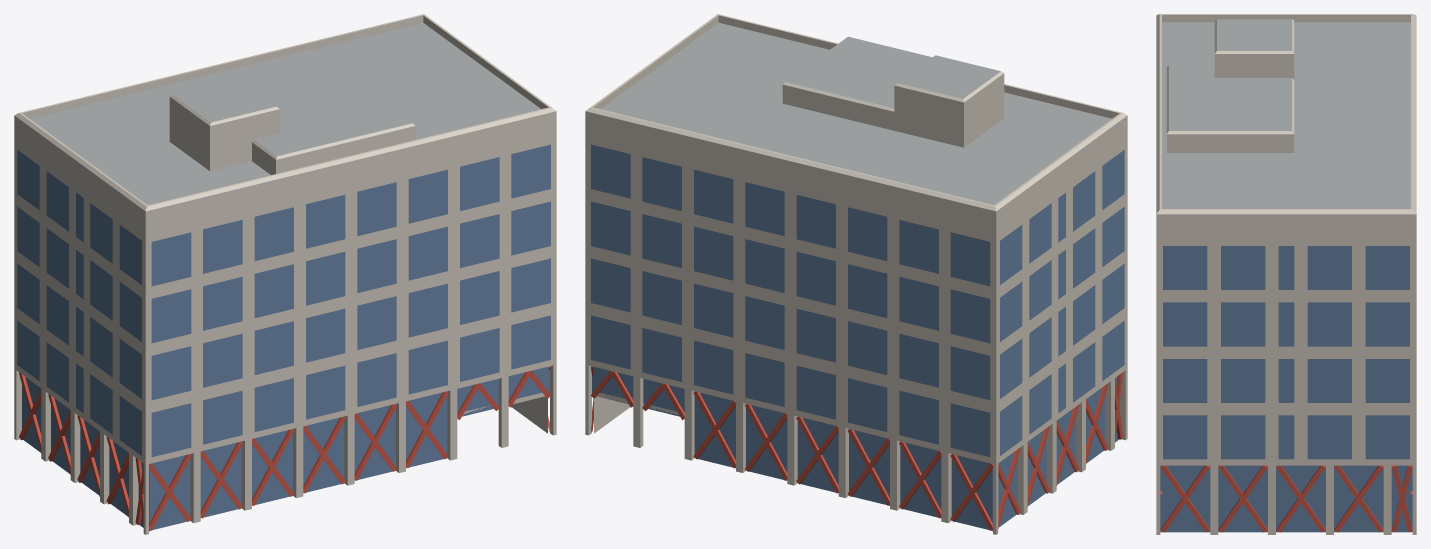
File: sd-james-r-mills-building.glb
The picture shows the model from 3 angles, left to right: view 1: azimuth 30°, elevation 25°; view 2: azimuth 150°, elevation 25°; view 3: azimuth 270°, elevation 25°; orthographic projection.
Parts seen in each view (by area): view 1: James R. Mills Building; view 2: James R. Mills Building; view 3: James R. Mills Building.
Boxes of the visible parts, left/top/right/bottom form: James R. Mills Building: left=14, top=14, right=556, bottom=534; James R. Mills Building: left=585, top=14, right=1127, bottom=534; James R. Mills Building: left=1156, top=14, right=1416, bottom=534.
Bounding box in the file's own units: 58.98 × 50.2 × 32.68.
